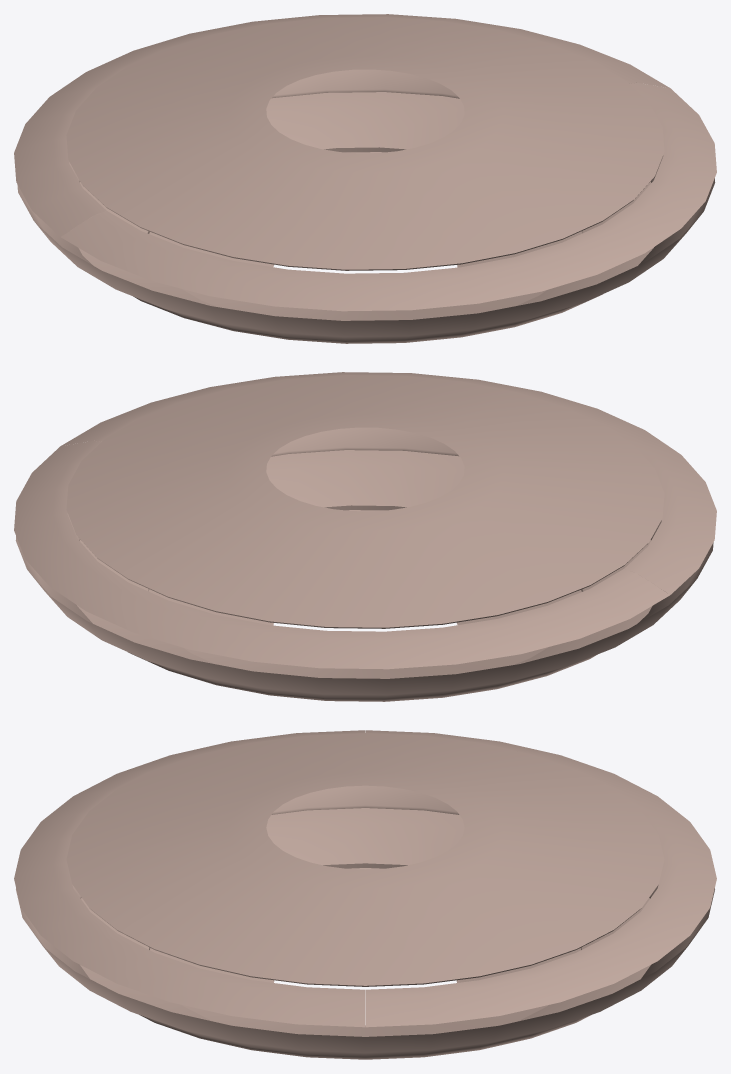
File: Starship_exterior.fbx
3 views of the same model, one above another, from view 1: azimuth 30°, elevation 25°; view 2: azimuth 150°, elevation 25°; view 3: azimuth 270°, elevation 25° (orthographic).
Visible parts, largest first — view 1: Starship_exterior_platines; view 2: Starship_exterior_platines; view 3: Starship_exterior_platines.
Part boxes in pixels (left/top/right/bottom): Starship_exterior_platines: left=14, top=14, right=716, bottom=343; Starship_exterior_platines: left=14, top=372, right=716, bottom=701; Starship_exterior_platines: left=14, top=730, right=716, bottom=1059.
Size of the model in its own units: 2690 by 670 by 2690.
